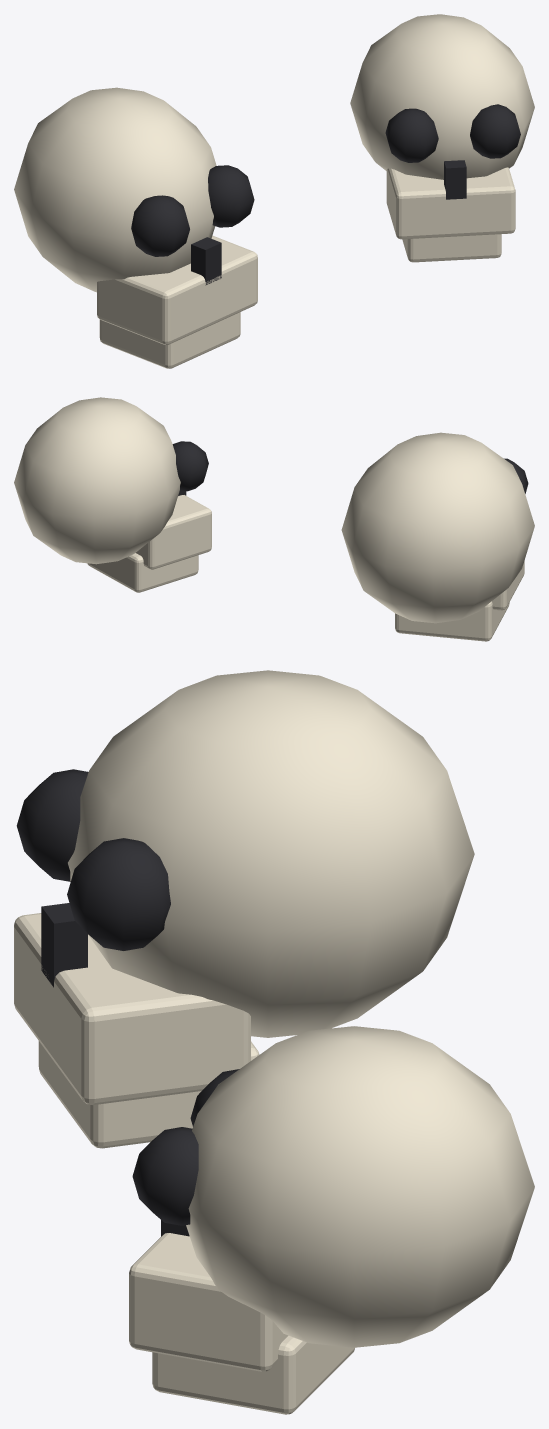
The model's file is skull_small_pair.glb.
3 renders of one model, top to bottom at view 1: azimuth 30°, elevation 25°; view 2: azimuth 150°, elevation 25°; view 3: azimuth 270°, elevation 25°, orthographic. The views are drawn at different scales.
Parts seen in each view (by area): view 1: GD_skull_small_pair__m0, GD_skull_small_pair__m1; view 2: GD_skull_small_pair__m0, GD_skull_small_pair__m1; view 3: GD_skull_small_pair__m0, GD_skull_small_pair__m1.
Boxes of the visible parts, <box> form: GD_skull_small_pair__m0: <box>14,14,534,368</box>; GD_skull_small_pair__m1: <box>131,104,520,285</box>; GD_skull_small_pair__m0: <box>14,397,534,641</box>; GD_skull_small_pair__m1: <box>172,441,528,495</box>; GD_skull_small_pair__m0: <box>14,670,534,1414</box>; GD_skull_small_pair__m1: <box>16,769,239,1236</box>.
Bounding box in the file's own units: 0.2405 × 0.0996 × 0.1175.
